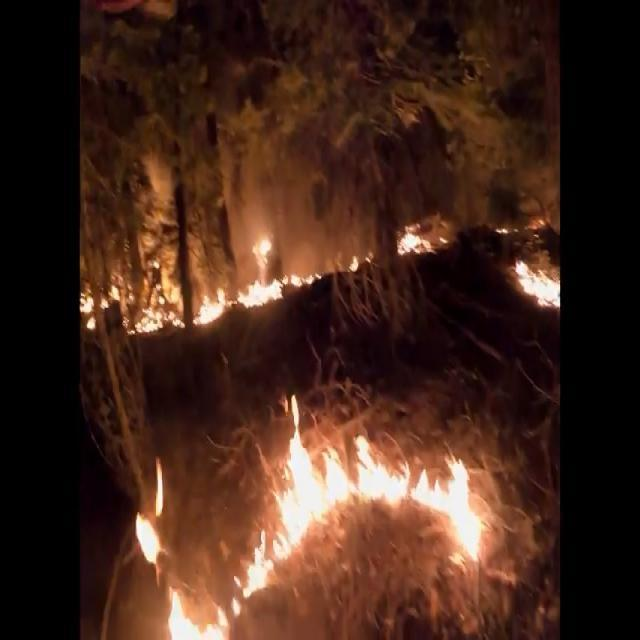Fire: (136, 416, 488, 640), (82, 216, 561, 334)
